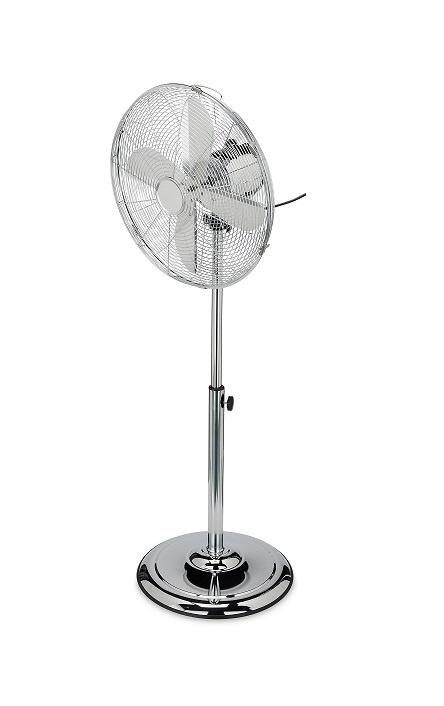fan: (99, 70, 315, 684)
